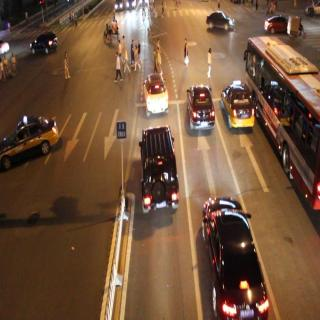BigCar: (239, 26, 320, 213)
Car: (194, 183, 268, 320), (133, 125, 185, 206), (0, 114, 59, 183), (214, 75, 254, 138), (186, 74, 216, 134), (140, 74, 170, 113), (204, 10, 237, 40), (30, 26, 56, 64), (259, 12, 290, 38), (112, 0, 126, 18)
